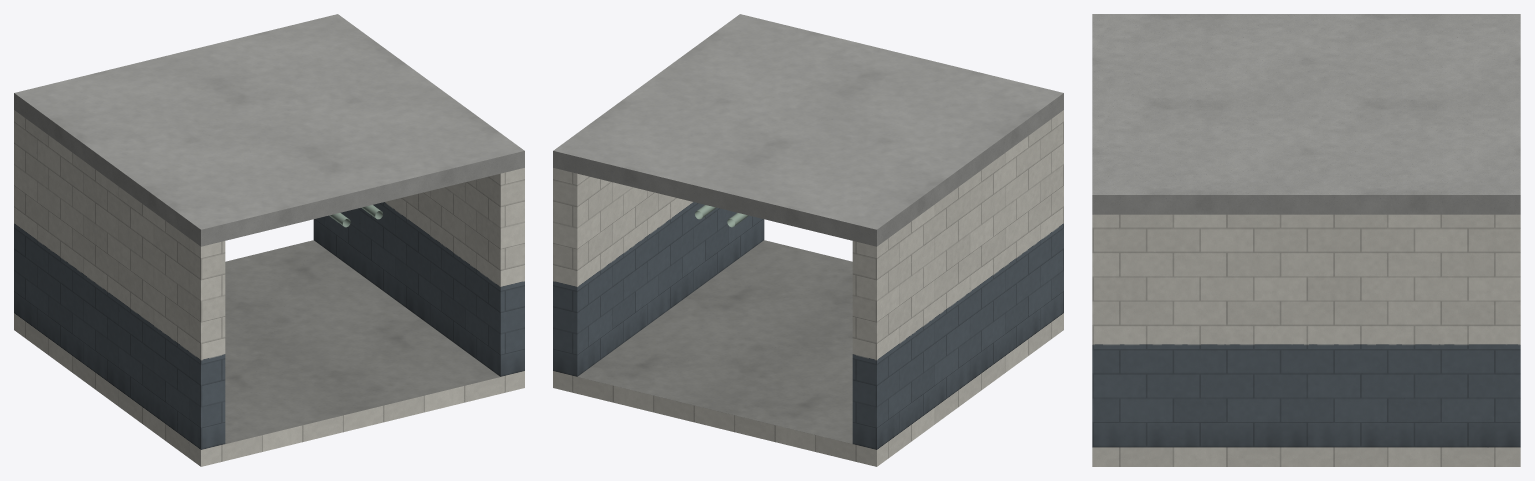
The model's file is Corridor_Basement_Straight_NoLight.glb.
The picture shows the model from 3 angles, left to right: view 1: azimuth 30°, elevation 25°; view 2: azimuth 150°, elevation 25°; view 3: azimuth 270°, elevation 25°; orthographic projection. The views are drawn at different scales.
Visible parts, largest first — view 1: Corridor_Basement_Straight_NoLight, Corridor_Basement_Straight_NoLight_Ceiling; view 2: Corridor_Basement_Straight_NoLight, Corridor_Basement_Straight_NoLight_Ceiling; view 3: Corridor_Basement_Straight_NoLight, Corridor_Basement_Straight_NoLight_Ceiling.
Boxes of the visible parts, x1=… form: Corridor_Basement_Straight_NoLight: x1=14, y1=110, x2=524, y2=466; Corridor_Basement_Straight_NoLight_Ceiling: x1=14, y1=14, x2=524, y2=246; Corridor_Basement_Straight_NoLight: x1=553, y1=110, x2=1063, y2=466; Corridor_Basement_Straight_NoLight_Ceiling: x1=553, y1=14, x2=1063, y2=246; Corridor_Basement_Straight_NoLight: x1=1092, y1=214, x2=1520, y2=466; Corridor_Basement_Straight_NoLight_Ceiling: x1=1092, y1=14, x2=1520, y2=214.
Size of the model in its own units: 4 by 2.8 by 4.
5 materials, 3 textured.
